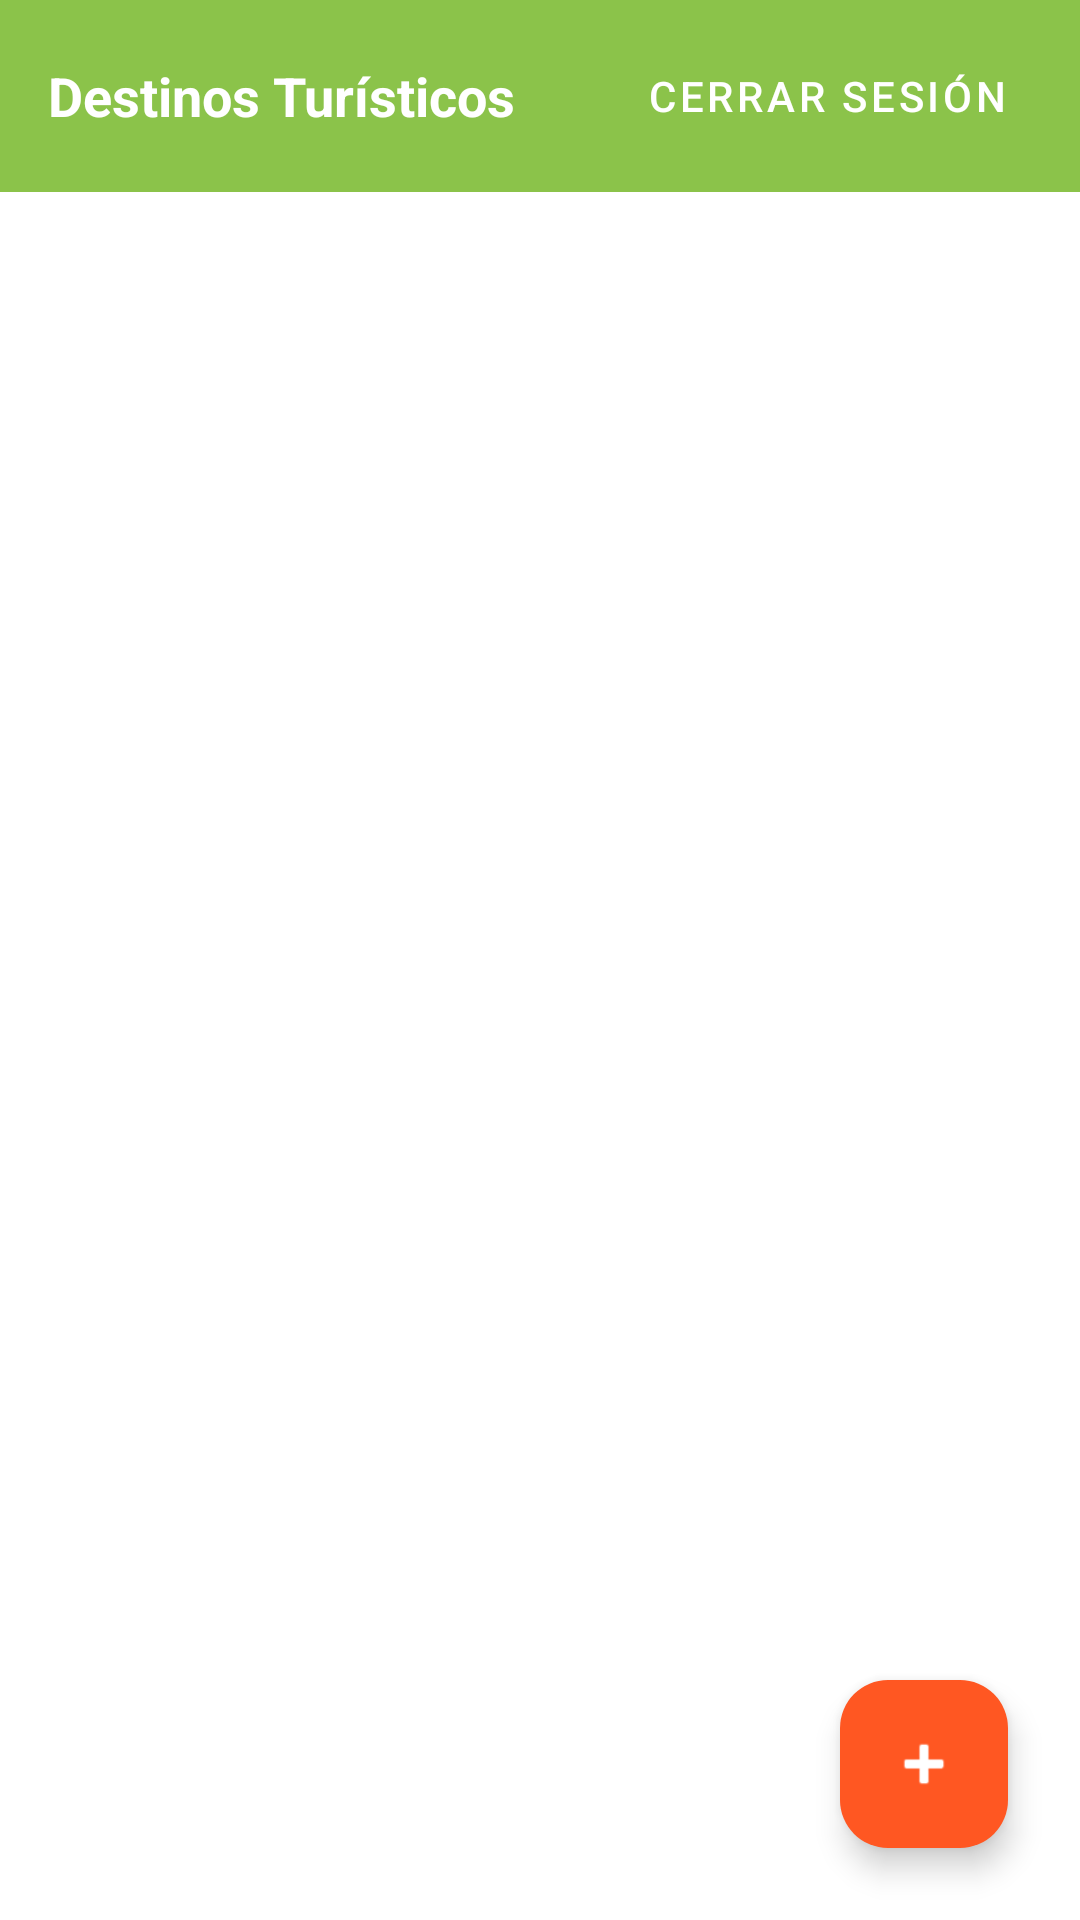

Point at icon controls on the screen. Image size 1080w x 1920h, points as (x,y).
Agregar destino: (924,1764)
